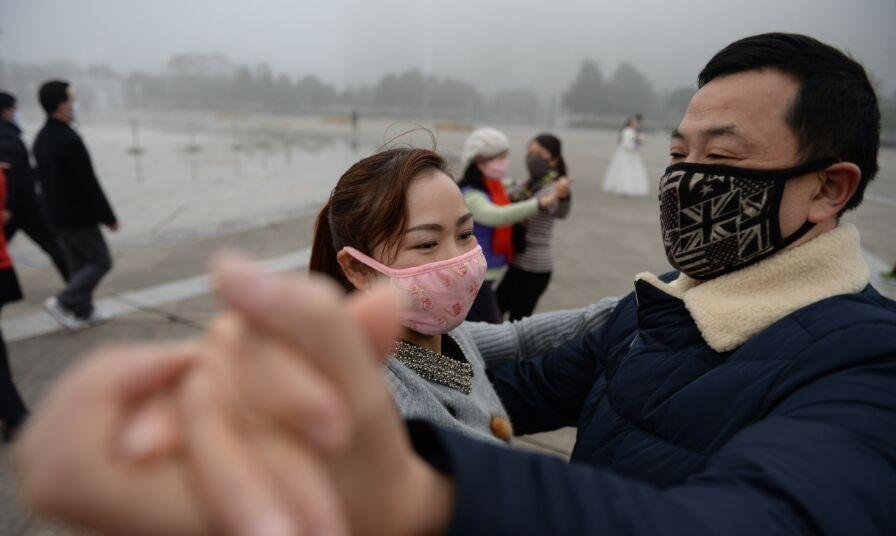OK: (660, 119, 808, 267), (377, 207, 485, 329), (526, 146, 557, 179), (480, 149, 513, 180), (57, 94, 82, 121)
